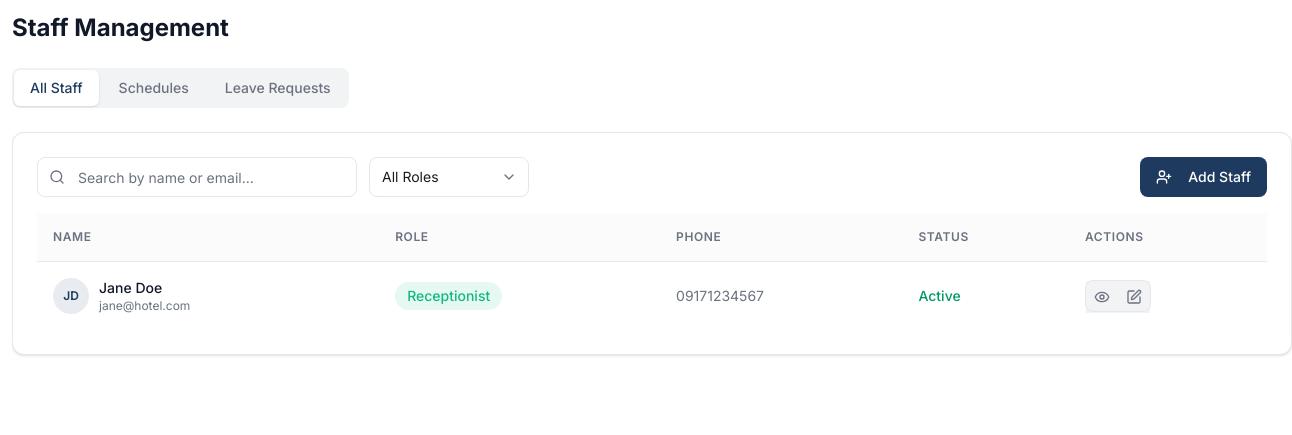
Scenario: StaffPage › renders schedules with edit and delete actions
Click the button "Schedules".
click(154, 88)  # box [103,70,205,106]
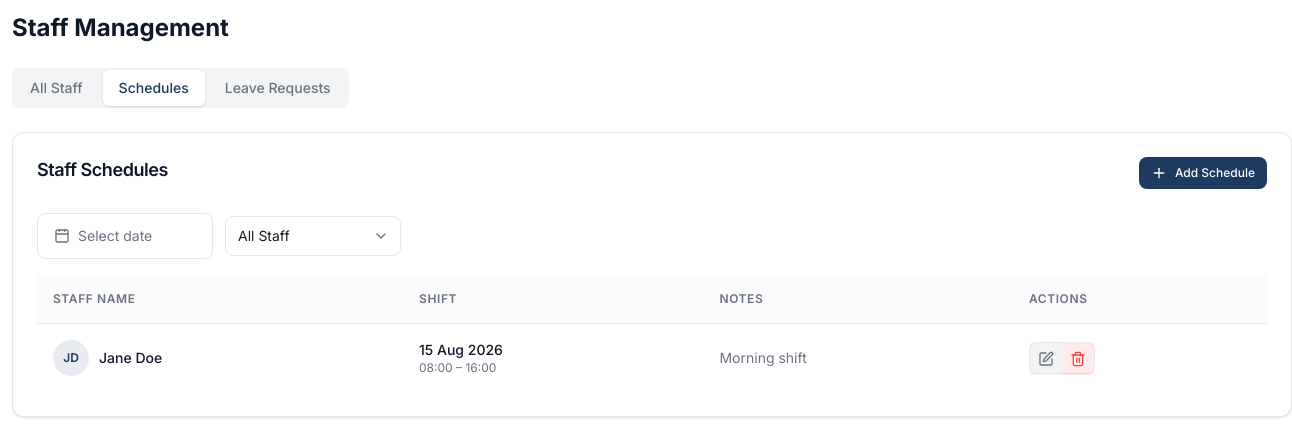
expect the text "Morning shift" is shown: met, box [719,348,807,366]
expect the button titled "Edit" is shown: met, box [1030,342,1062,374]
expect the button titled "Delete" is shown: met, box [1062,342,1094,374]
